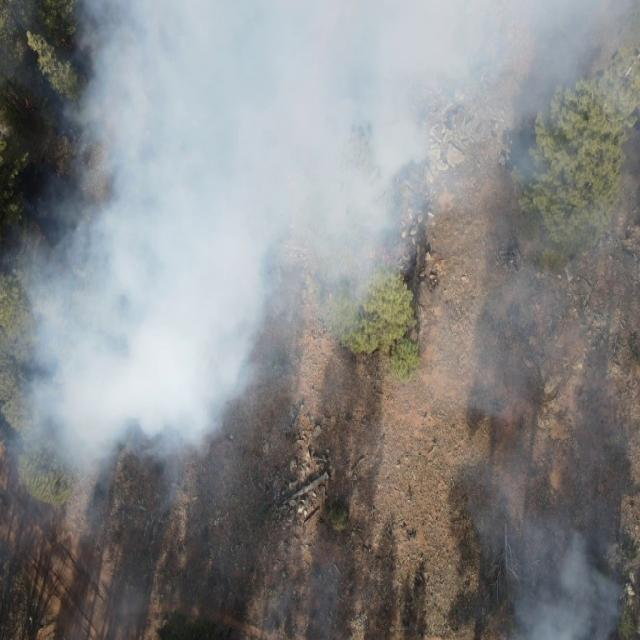fire: (364, 242, 392, 266), (22, 95, 34, 109), (58, 33, 66, 46)
smoke: (468, 0, 640, 640), (70, 0, 308, 455), (305, 0, 408, 328), (0, 176, 71, 455), (3, 455, 184, 545), (411, 0, 468, 256), (250, 569, 348, 640), (96, 572, 154, 638)
